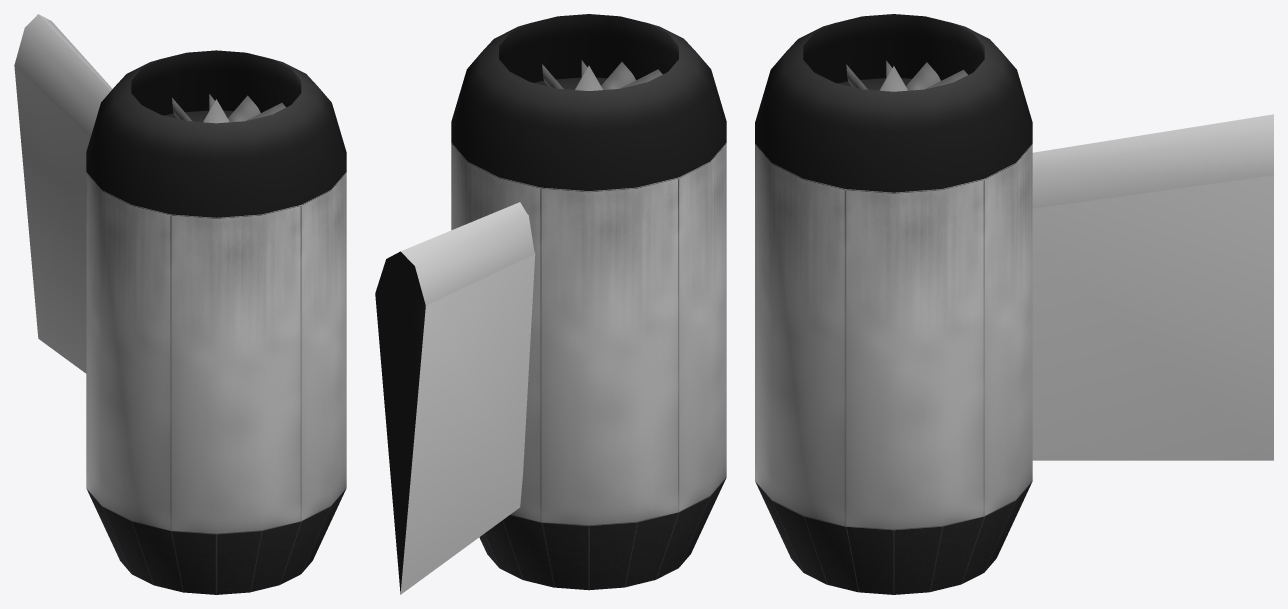
The model's file is MicroJetEngine.FBX.
3 views of the same model, side by side, from view 1: azimuth 30°, elevation 25°; view 2: azimuth 150°, elevation 25°; view 3: azimuth 270°, elevation 25° (orthographic). The views are drawn at different scales.
Parts seen in each view (by area): view 1: Engine001, EnginePylon001, Box053; view 2: Engine001, EnginePylon001, Box047; view 3: Engine001, EnginePylon001.
Part boxes in pixels (box(x1,y1,x2,y2)): Engine001: box(86, 50, 346, 594); EnginePylon001: box(14, 14, 112, 373); Box053: box(228, 95, 260, 122); Engine001: box(451, 14, 726, 590); EnginePylon001: box(375, 202, 535, 594); Box047: box(601, 62, 635, 89); Engine001: box(755, 14, 1032, 594); EnginePylon001: box(1032, 114, 1273, 460).
Size of the model in its own units: 0.1563 by 0.3051 by 0.2875.
